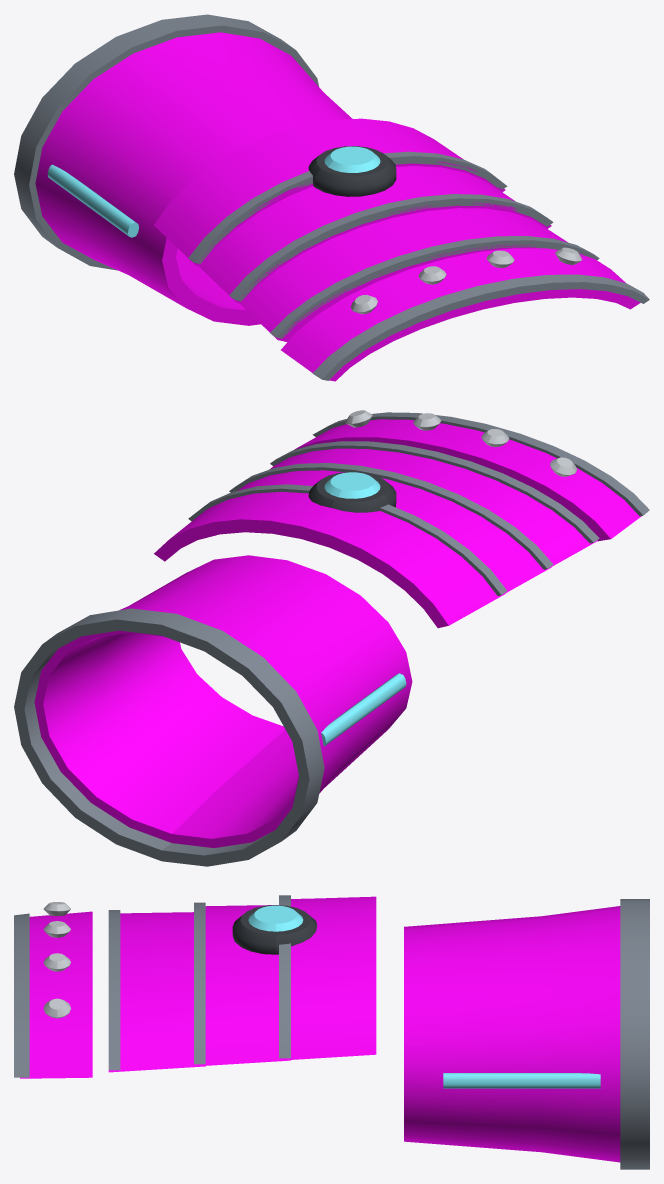
Rendered from gantelet_armure4.glb.
The picture shows the model from 3 angles, top to bottom: view 1: azimuth 30°, elevation 25°; view 2: azimuth 150°, elevation 25°; view 3: azimuth 270°, elevation 25°; orthographic projection.
Parts seen in each view (by area): view 1: main__gantelet_teinte, manchette__gantelet_teinte, main__gantelet_acier_lisere, manchette__gantelet_acier_lisere, main__gantelet_teinte_sombre, manchette__gantelet_lueur, main__gantelet_rivet, main__gantelet_lueur; view 2: manchette__gantelet_teinte, main__gantelet_teinte, manchette__gantelet_acier_lisere, main__gantelet_acier_lisere, main__gantelet_teinte_sombre, manchette__gantelet_lueur, main__gantelet_rivet, main__gantelet_lueur; view 3: manchette__gantelet_teinte, main__gantelet_teinte, main__gantelet_acier_lisere, manchette__gantelet_acier_lisere, manchette__gantelet_lueur, main__gantelet_teinte_sombre, main__gantelet_rivet, main__gantelet_lueur.
Boxes of the visible parts, bbox=[...] form: main__gantelet_teinte: bbox=[154, 118, 640, 381]; manchette__gantelet_teinte: bbox=[35, 32, 352, 325]; main__gantelet_acier_lisere: bbox=[188, 151, 649, 380]; manchette__gantelet_acier_lisere: bbox=[14, 14, 318, 270]; main__gantelet_teinte_sombre: bbox=[308, 146, 396, 196]; manchette__gantelet_lueur: bbox=[47, 164, 138, 237]; main__gantelet_rivet: bbox=[350, 247, 582, 314]; main__gantelet_lueur: bbox=[324, 146, 380, 172]; manchette__gantelet_teinte: bbox=[34, 555, 412, 847]; main__gantelet_teinte: bbox=[154, 419, 641, 628]; manchette__gantelet_acier_lisere: bbox=[14, 608, 324, 866]; main__gantelet_acier_lisere: bbox=[188, 412, 649, 595]; main__gantelet_teinte_sombre: bbox=[308, 472, 396, 512]; manchette__gantelet_lueur: bbox=[321, 673, 406, 746]; main__gantelet_rivet: bbox=[345, 410, 576, 476]; main__gantelet_lueur: bbox=[324, 472, 380, 498]; manchette__gantelet_teinte: bbox=[404, 906, 620, 1162]; main__gantelet_teinte: bbox=[20, 896, 376, 1078]; main__gantelet_acier_lisere: bbox=[14, 895, 290, 1077]; manchette__gantelet_acier_lisere: bbox=[620, 899, 649, 1169]; manchette__gantelet_lueur: bbox=[443, 1073, 600, 1088]; main__gantelet_teinte_sombre: bbox=[232, 905, 317, 954]; main__gantelet_rivet: bbox=[43, 902, 70, 1018]; main__gantelet_lueur: bbox=[248, 905, 303, 931].
Bounding box in the file's own units: 0.0952 × 0.066 × 0.1615.
